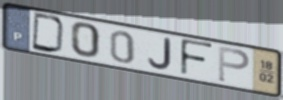0: (69, 21, 102, 60), (108, 30, 139, 65)
D: (30, 11, 67, 55)
F: (179, 37, 215, 78)
J: (146, 37, 174, 71)
P: (216, 44, 252, 84)
